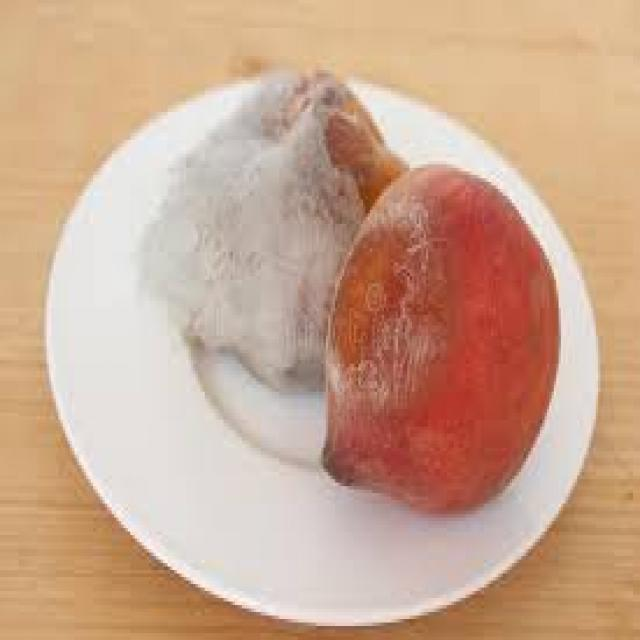organic waste: (133, 70, 407, 392), (319, 161, 558, 517)
